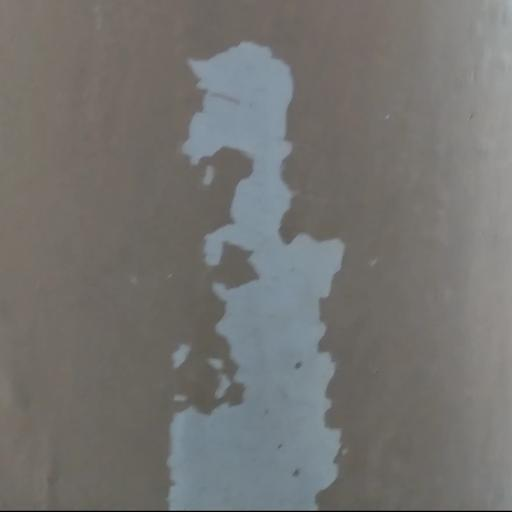peeling: (149, 46, 369, 512)
